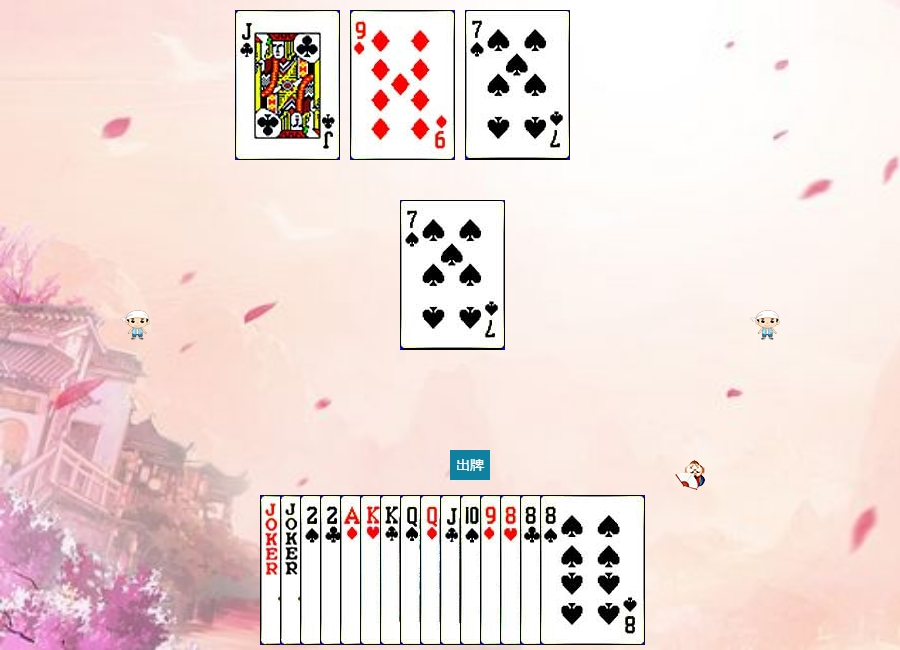10~4: (460, 495, 565, 645)
11~2: (235, 10, 340, 160), (440, 495, 545, 645)
12~1: (420, 495, 525, 645)
12~4: (400, 495, 505, 645)
13~2: (380, 495, 485, 645)
13~3: (360, 495, 465, 645)
14~1: (340, 495, 445, 645)
15~2: (320, 495, 425, 645)
15~4: (300, 495, 405, 645)
17~3: (280, 495, 385, 645)
18~4: (260, 495, 365, 645)
7~4: (465, 10, 570, 160), (400, 200, 505, 350)
8~2: (520, 495, 625, 645)
8~3: (500, 495, 605, 645)
8~4: (540, 495, 645, 645)
9~1: (350, 10, 455, 160), (480, 495, 585, 645)
